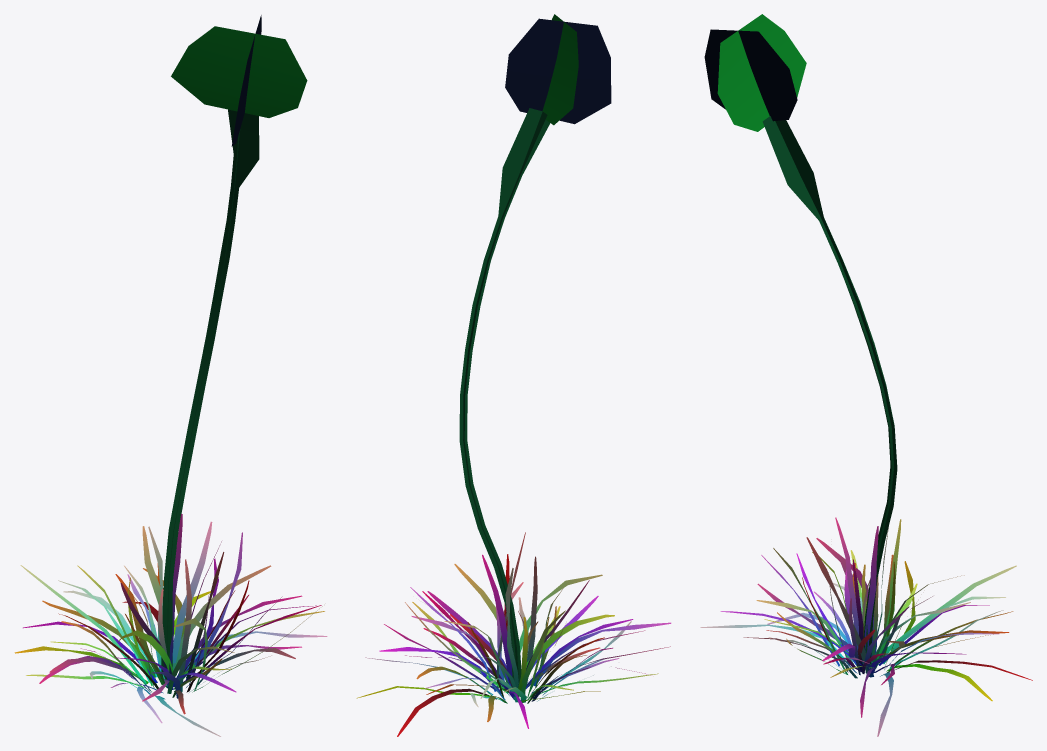
Rendered from Sea_Thrift_vkbgaihha_Mid_vkbgaihha_VarB_LOD0.fbx.
The picture shows the model from 3 angles, left to right: view 1: azimuth 30°, elevation 25°; view 2: azimuth 150°, elevation 25°; view 3: azimuth 270°, elevation 25°; orthographic projection. The views are drawn at different scales.
Parts seen in each view (by area): view 1: _lep8_VarB_LOD1; view 2: _lep8_VarB_LOD1; view 3: _lep8_VarB_LOD1.
Part boxes in pixels (x1=…): _lep8_VarB_LOD1: x1=14, y1=15, x2=327, y2=736; _lep8_VarB_LOD1: x1=356, y1=14, x2=671, y2=736; _lep8_VarB_LOD1: x1=700, y1=14, x2=1032, y2=736.
Bounding box in the file's own units: 8.01 × 17.14 × 7.93.
